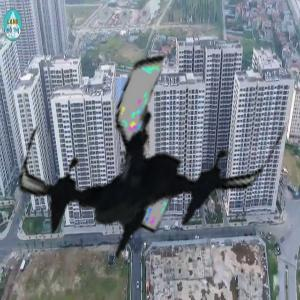drone: (23, 28, 276, 281)
